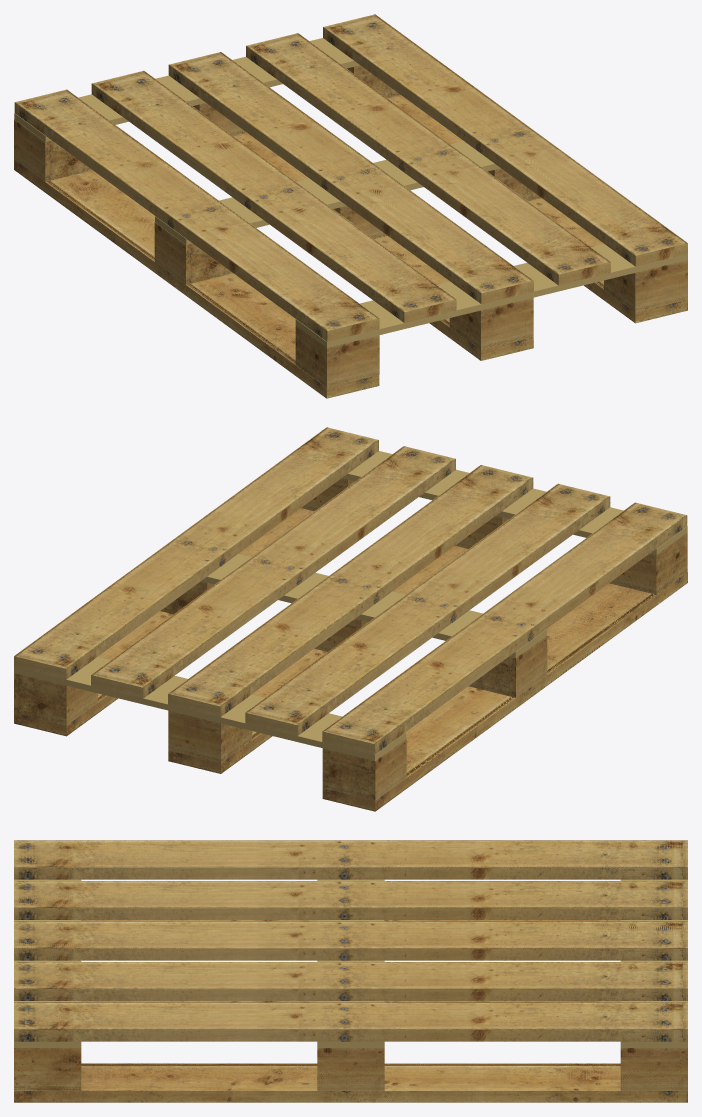
Rendered from empty_pallet.fbx.
3 views of the same model, one above another, from view 1: azimuth 30°, elevation 25°; view 2: azimuth 150°, elevation 25°; view 3: azimuth 270°, elevation 25° (orthographic). The views are drawn at different scales.
Visible parts, largest first — view 1: Planche_3_1, Planche_3_3, Planche_3_2, Planche_3_5, Planche_3_4, Planche3, Planche_laterale3, bois3, Planche1, Planche2, bois4, bois2 (+4 smaller); view 2: Planche_3_1, Planche_3_3, Planche_3_2, Planche_3_5, Planche_3_4, Planche3, Planche_laterale1, bois2_4, Planche1, Planche2, bois1, bois2_3 (+4 smaller); view 3: Planche_3_1, Planche_3_2, Planche_3_5, Planche_3_3, Planche_3_4, Planche2, bois2, bois2_2, bois2_3, Planche_laterale2, Planche_laterale1, Planche_laterale3 (+2 smaller).
Boxes of the visible parts, <box> form: Planche_3_1: <box>14,89,379,341</box>; Planche_3_3: <box>91,70,456,322</box>; Planche_3_2: <box>168,52,533,304</box>; Planche_3_5: <box>323,14,687,266</box>; Planche_3_4: <box>246,33,610,285</box>; Planche3: <box>14,159,379,398</box>; Planche_laterale3: <box>295,244,687,347</box>; bois3: <box>295,325,379,387</box>; Planche1: <box>234,133,533,360</box>; Planche2: <box>388,95,687,323</box>; bois4: <box>449,297,533,349</box>; bois2: <box>604,260,687,312</box>; Planche_3_1: <box>322,502,687,754</box>; Planche_3_3: <box>245,483,610,735</box>; Planche_3_2: <box>168,465,533,717</box>; Planche_3_5: <box>14,427,378,679</box>; Planche_3_4: <box>91,446,455,698</box>; Planche3: <box>322,572,687,811</box>; Planche_laterale1: <box>14,657,406,760</box>; bois2_4: <box>322,738,406,800</box>; Planche1: <box>168,546,467,773</box>; Planche2: <box>14,508,313,736</box>; bois1: <box>168,710,252,762</box>; bois2_3: <box>14,673,97,725</box>; Planche_3_1: <box>14,840,687,879</box>; Planche_3_2: <box>14,921,687,960</box>; Planche_3_5: <box>14,1002,687,1041</box>; Planche_3_3: <box>14,881,687,919</box>; Planche_3_4: <box>14,962,687,1000</box>; Planche2: <box>14,1063,687,1102</box>; bois2: <box>14,1048,81,1090</box>; bois2_2: <box>317,1048,384,1090</box>; bois2_3: <box>620,1048,687,1090</box>; Planche_laterale2: <box>317,879,384,1047</box>; Planche_laterale1: <box>620,879,687,1047</box>; Planche_laterale3: <box>14,879,81,1047</box>.
Bounding box in the file's own units: 80.05 × 14.27 × 120.
